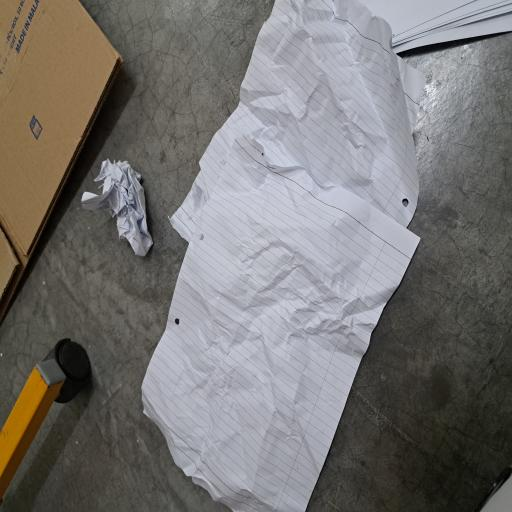cardboard: (138, 0, 384, 165)
paper: (0, 190, 284, 512), (200, 220, 384, 512), (192, 108, 266, 206)
